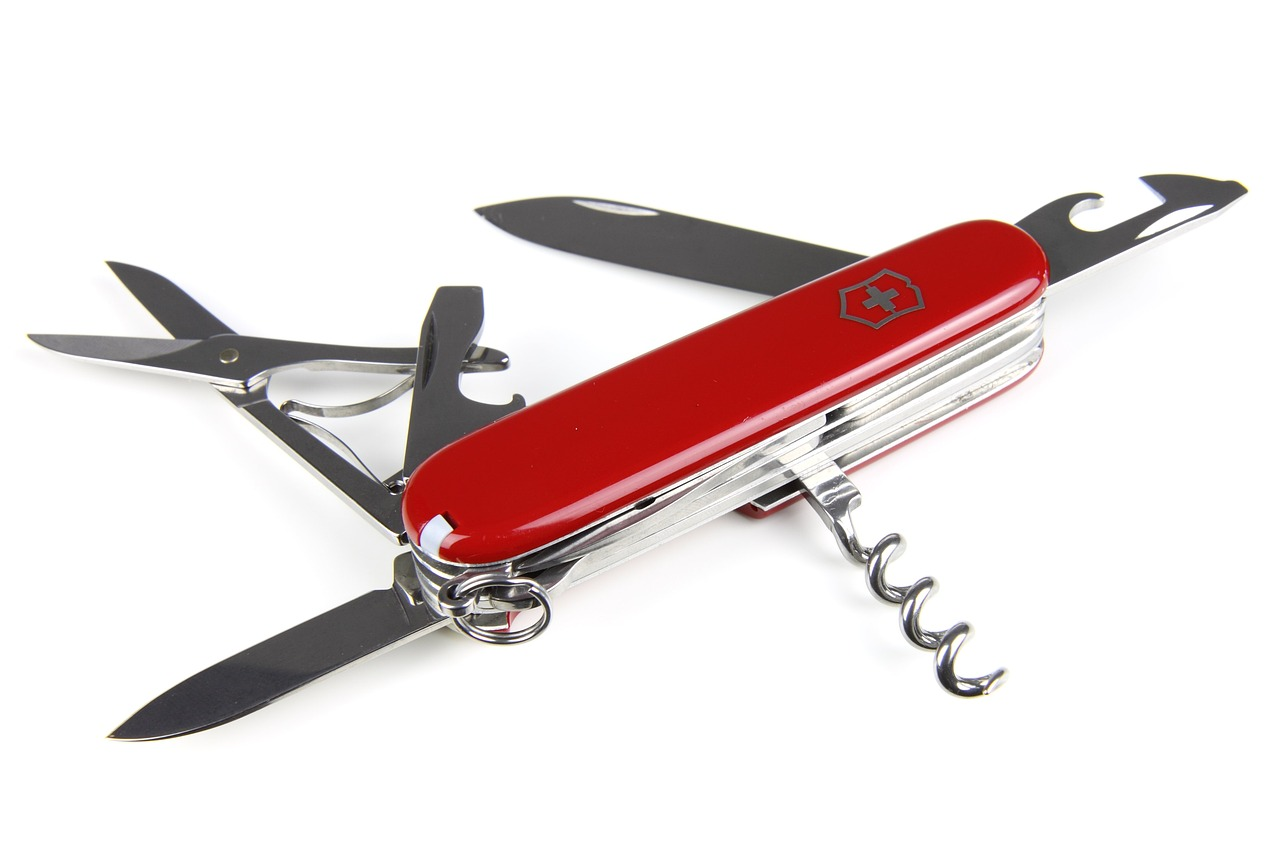knife: (101, 552, 467, 746), (471, 189, 872, 301), (1003, 163, 1251, 291), (399, 282, 529, 487)
